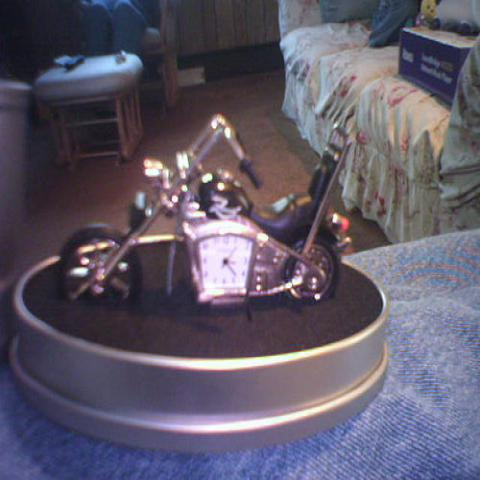motorcycle: (57, 111, 351, 310)
